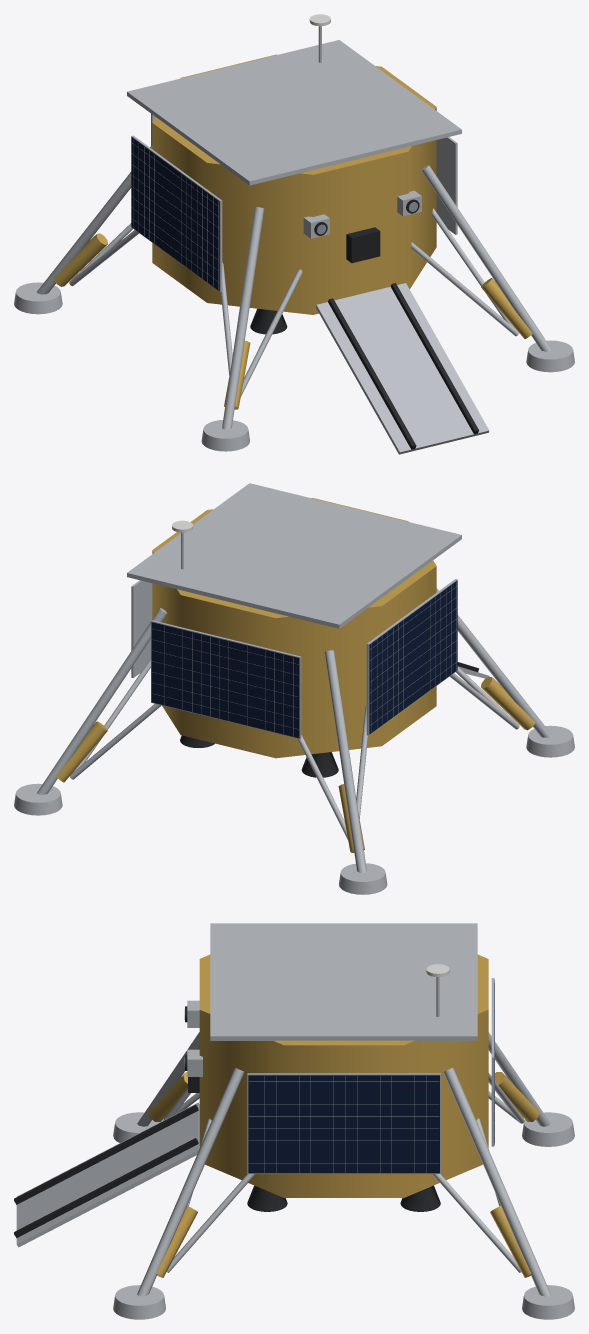
File: chandrayaan3_lander.glb
3 views of the same model, one above another, from view 1: azimuth 30°, elevation 25°; view 2: azimuth 150°, elevation 25°; view 3: azimuth 270°, elevation 25° (orthographic). The views are drawn at different scales.
Visible parts, largest first — view 1: lander_body, top_deck, ramp_surface, solar_cells, primary_landing_strut (×3), landing_pad (×3), landing_brace (×4), ramp_track (×2), solar_backing (×2), crush_cartridge (×2), navigation_package, engine_bell; view 2: top_deck, lander_body, solar_cells (×2), primary_landing_strut (×3), landing_pad (×3), solar_backing (×3), landing_brace (×5), crush_cartridge (×2), engine_bell; view 3: top_deck, lander_body, solar_cells, primary_landing_strut (×4), ramp_surface, landing_pad (×4), crush_cartridge (×4), ramp_track (×2), solar_backing (×2), landing_brace (×2), engine_bell (×2).
Part boxes in pixels (box(x1,y1,x2,y2)): lander_body: box(152, 54, 436, 314); top_deck: box(127, 40, 461, 185); ramp_surface: box(316, 283, 489, 454); solar_cells: box(131, 137, 219, 290); primary_landing_strut (×3): box(37, 145, 551, 429); landing_pad (×3): box(14, 282, 574, 451); landing_brace (×4): box(221, 208, 518, 396); ramp_track (×2): box(328, 283, 478, 449); solar_backing (×2): box(131, 135, 457, 292); crush_cartridge (×2): box(53, 233, 532, 338); navigation_package: box(346, 227, 380, 263); engine_bell: box(250, 308, 287, 334); top_deck: box(127, 483, 461, 628); lander_body: box(152, 498, 436, 758); solar_cells (×2): box(151, 580, 457, 737); primary_landing_strut (×3): box(37, 588, 551, 873); landing_pad (×3): box(14, 725, 574, 894); solar_backing (×3): box(131, 579, 457, 738); landing_brace (×5): box(69, 658, 519, 840); crush_cartridge (×2): box(56, 676, 535, 782); engine_bell: box(301, 752, 338, 777); top_deck: box(210, 923, 477, 1040); lander_body: box(199, 954, 488, 1197); solar_cells: box(248, 1075, 439, 1173); primary_landing_strut (×4): box(137, 1032, 550, 1296); ramp_surface: box(16, 1102, 199, 1247); landing_pad (×4): box(113, 1112, 574, 1319); crush_cartridge (×4): box(148, 1072, 539, 1277); ramp_track (×2): box(14, 1104, 198, 1238); solar_backing (×2): box(247, 978, 494, 1173); landing_brace (×2): box(167, 1174, 521, 1272); engine_bell (×2): box(247, 1185, 440, 1211).
Bounding box in the file's own units: 3.2 × 2.22 × 3.88.
Materials: 6 (6 with a texture image).
